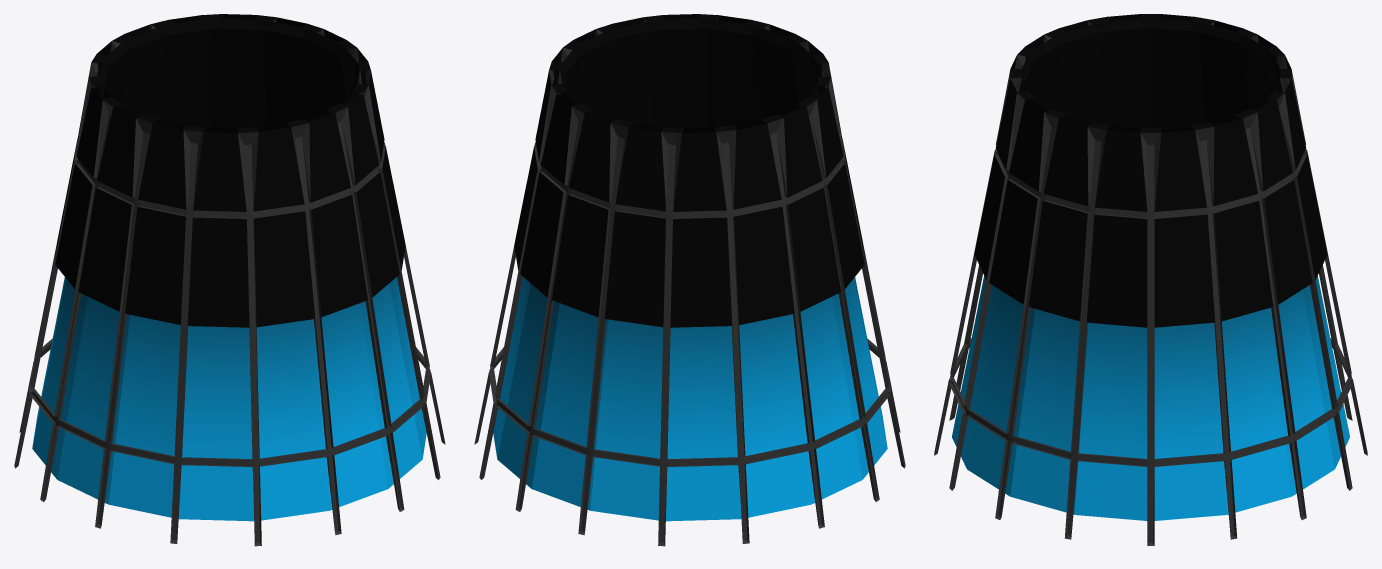
Rendered from PenSheQi_WeiPen_3X3_off.FBX.
The picture shows the model from 3 angles, left to right: view 1: azimuth 30°, elevation 25°; view 2: azimuth 150°, elevation 25°; view 3: azimuth 270°, elevation 25°; orthographic projection.
Visible parts, largest first — view 1: Box001; view 2: Box001; view 3: Box001.
Boxes of the visible parts, x1,y1,x2,y2 form: Box001: [14, 14, 445, 546]; Box001: [474, 14, 905, 546]; Box001: [934, 14, 1367, 545].
Bounding box in the file's own units: 2.99 × 3 × 2.99.
